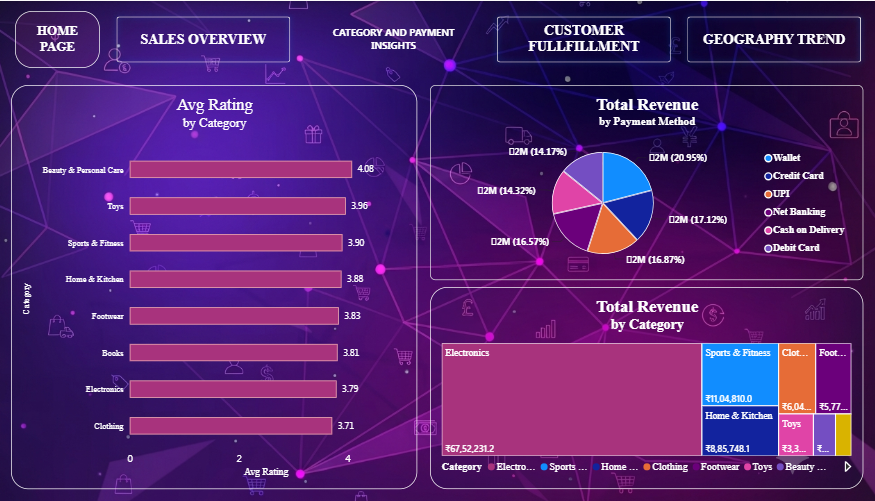

What the dashboard file says about the page in this screenshot:
{"tool":"powerbi","page":{"name":"CATEGORY AND PAYMENT INSIGHTS","canvas":[1280,720],"ordinal":2},"visuals":[{"type":"treemap","fields":{"Group":["Sales Data.Category"],"Values":["Sales Data.Total Revenue"]},"box":[629.3,411.8,623.5,290.9],"z":0},{"type":"barChart","fields":{"Y":["Sales Data.Avg Rating"],"Category":["Sales Data.Category"]},"box":[25.9,121,584.6,581.8],"z":1000},{"type":"pieChart","fields":{"Y":["Sales Data.Total Revenue"],"Category":["Sales Data.Payment Method"]},"box":[629.3,121,623.5,280.8],"z":2000}]}

Visuals, with their boxes in screenshot pixels (x1, y1, x2, y2), scaled from the page's 1280x720 canvas onto the 875x501 screenshot:
treemap - Sales Data.Category x Sales Data.Total Revenue: (430, 287, 856, 489)
barChart - Sales Data.Avg Rating x Sales Data.Category: (18, 84, 417, 489)
pieChart - Sales Data.Total Revenue x Sales Data.Payment Method: (430, 84, 856, 280)
